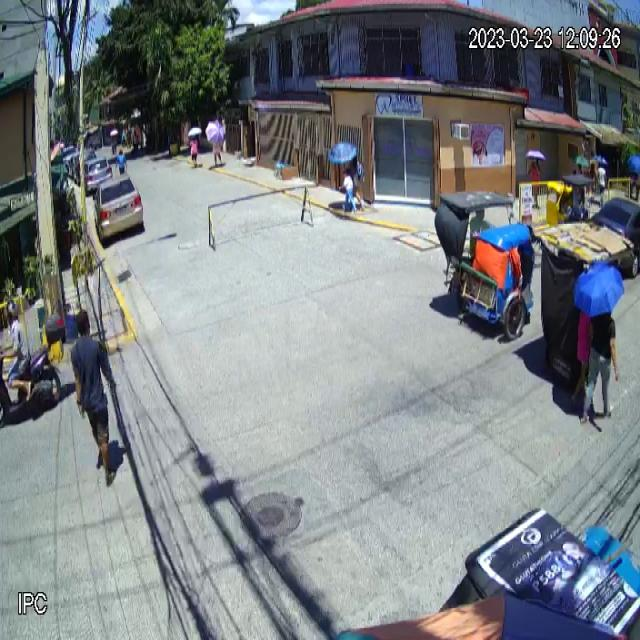Car: (94, 174, 143, 240)
Tricycle: (436, 191, 534, 341)
